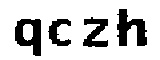c: (49, 16, 74, 49)
h: (113, 6, 151, 52)
q: (13, 15, 45, 59)
z: (81, 17, 109, 52)
